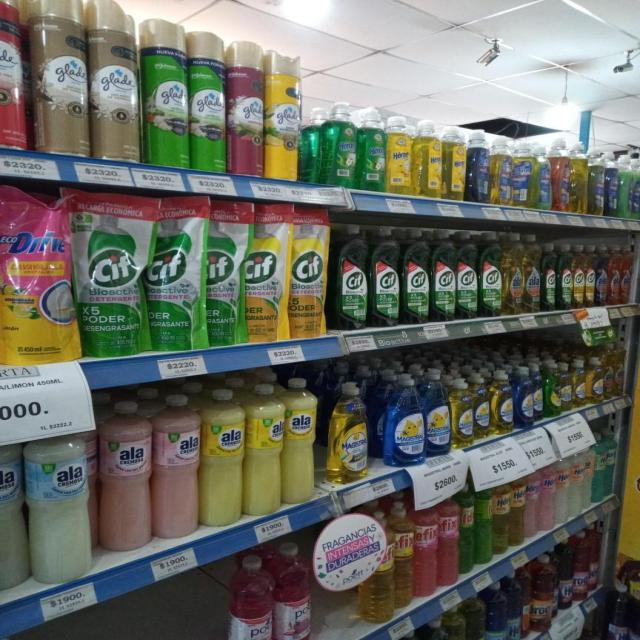ala_conc_amarillo: (503, 232, 522, 316), (524, 234, 540, 314)
ala_conc_azul: (596, 244, 608, 306)
ala_conc_rojo: (608, 245, 620, 305), (620, 245, 632, 304), (632, 243, 640, 303)
ala_crem_amarillo: (283, 377, 318, 505)
ala_crem_blanco: (27, 434, 94, 584), (0, 444, 26, 594)
ala_crem_rosado: (98, 399, 152, 553), (153, 392, 199, 541)
cif_conc_bot_amarilla: (572, 244, 584, 308), (585, 244, 595, 308)
cif_conc_botella_verde: (333, 224, 368, 330), (370, 226, 400, 327), (402, 228, 429, 325), (431, 229, 456, 322), (479, 231, 502, 317), (457, 231, 478, 320), (541, 242, 557, 312), (557, 242, 572, 310)
cif_conc_sachet_amarillo: (244, 204, 286, 344), (288, 205, 328, 338)
cif_conc_sachet_verde: (78, 190, 145, 358), (147, 196, 204, 352), (205, 198, 242, 348)
drive: (0, 184, 76, 366)
heroe: (415, 500, 438, 599), (539, 460, 555, 532), (525, 466, 539, 540), (556, 455, 568, 526)
magistral_con_amarillo: (451, 378, 473, 448), (492, 369, 513, 434), (474, 372, 490, 440), (587, 358, 604, 404), (572, 359, 586, 408), (560, 360, 572, 412)
magistral_con_azul: (384, 373, 424, 466), (425, 372, 450, 456), (515, 365, 534, 428)
